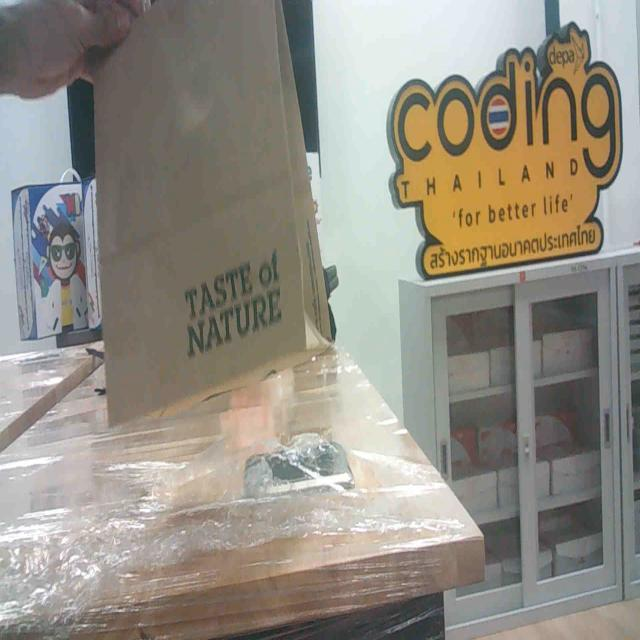bag: (85, 0, 333, 423)
